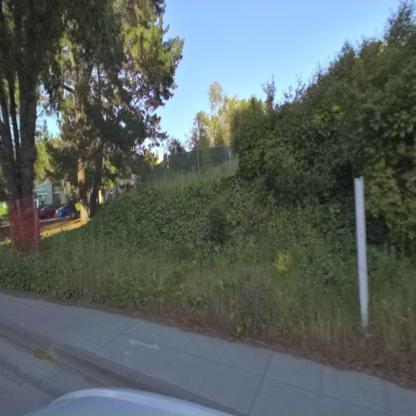car: (40, 205, 58, 219), (55, 205, 73, 218)
